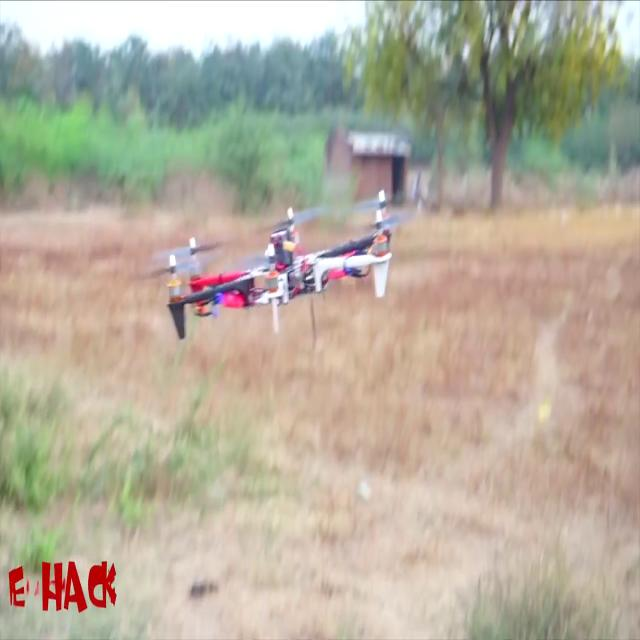drone: (144, 196, 412, 355)
